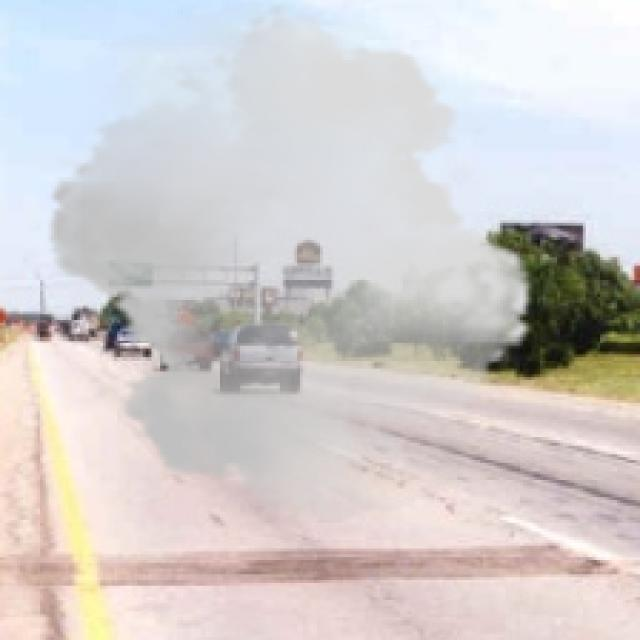smoke: (29, 3, 552, 523)
